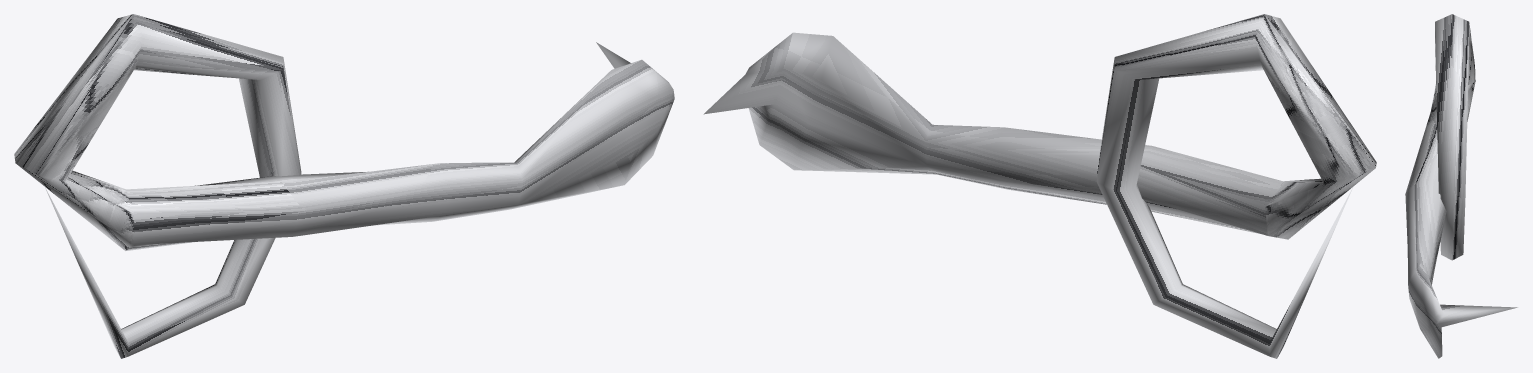
File: snake_000002.obj
The picture shows the model from 3 angles, left to right: view 1: azimuth 30°, elevation 25°; view 2: azimuth 150°, elevation 25°; view 3: azimuth 270°, elevation 25°; orthographic projection. The views are drawn at different scales.
Parts seen in each view (by area): view 1: Cylinder; view 2: Cylinder; view 3: Cylinder.
Part boxes in pixels (x1,y1,x2,y2): Cylinder: (14,14,674,358); Cylinder: (703,14,1376,358); Cylinder: (1405,14,1517,358).
Size of the model in its own units: 4.79 by 2.43 by 1.09.
